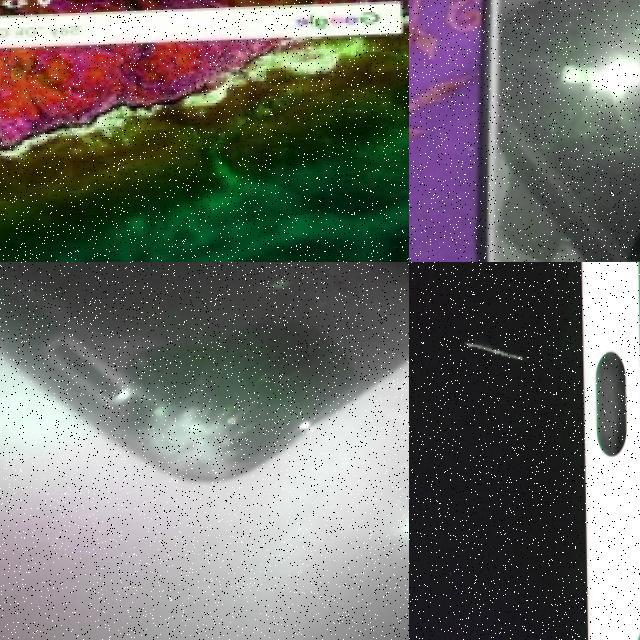scratch: (460, 332, 525, 376)
screen crack: (130, 347, 312, 498), (469, 177, 640, 262)
